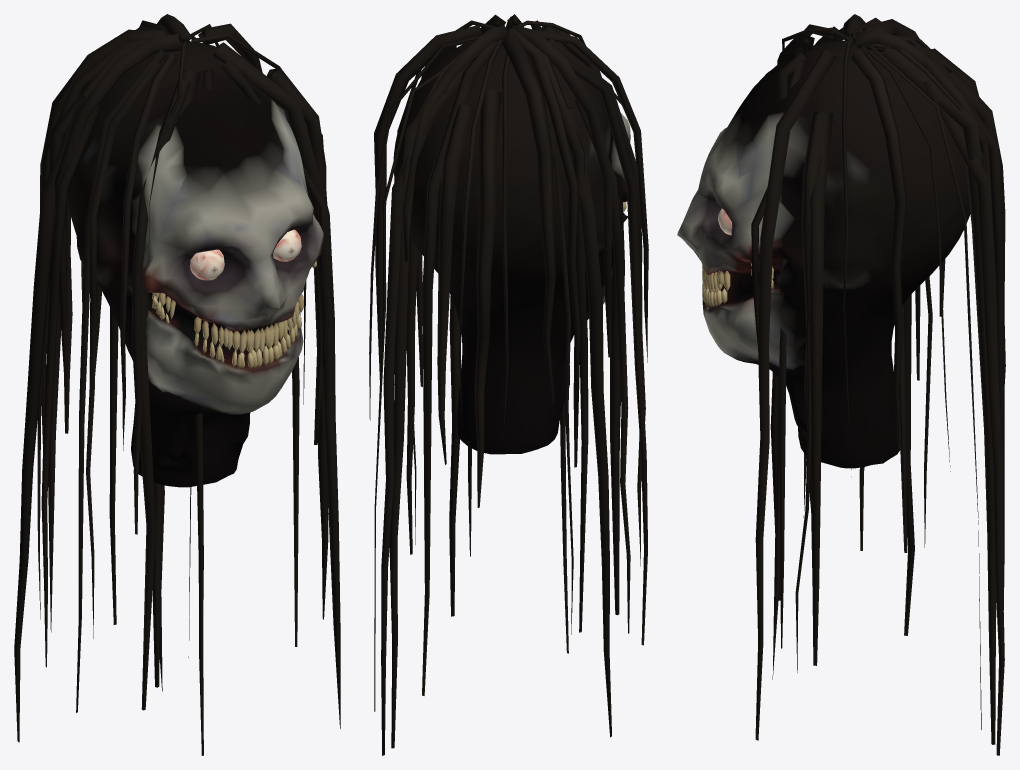
File: grinner_head_v16.glb
3 views of the same model, side by side, from view 1: azimuth 30°, elevation 25°; view 2: azimuth 150°, elevation 25°; view 3: azimuth 270°, elevation 25° (orthographic). The views are drawn at different scales.
Visible parts, largest first — view 1: grinner_head; view 2: grinner_head; view 3: grinner_head.
Part boxes in pixels (x1,y1,x2,y2): grinner_head: (14, 14, 340, 755); grinner_head: (369, 14, 648, 755); grinner_head: (677, 14, 1005, 755).
Bounding box in the file's own units: 0.2272 × 0.5999 × 0.2543.
